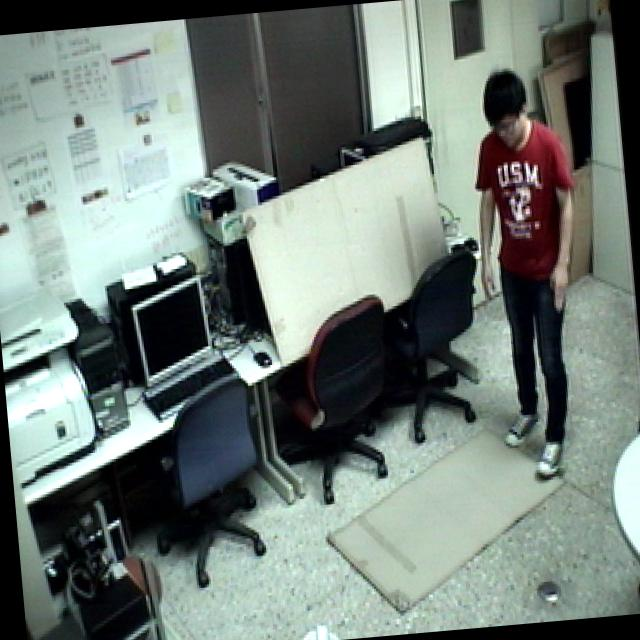stand: (446, 52, 609, 490)
